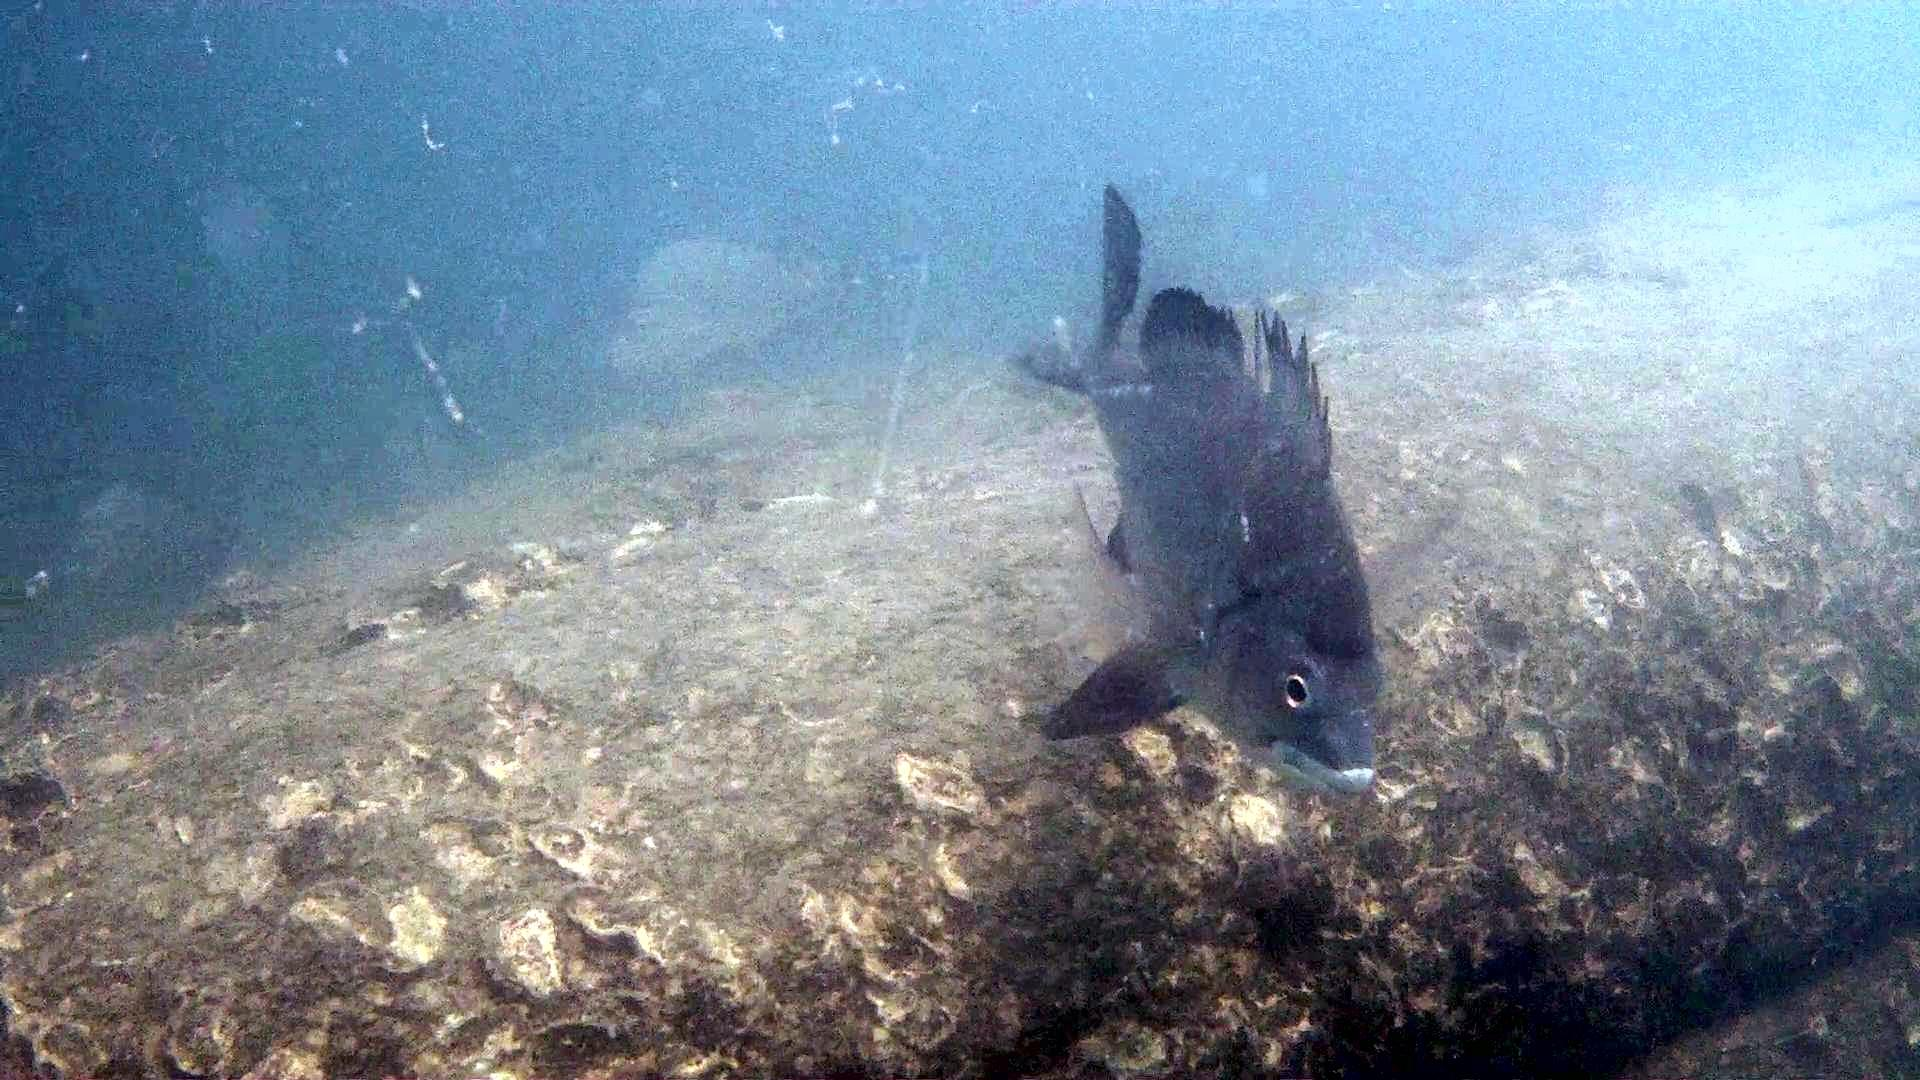acanthopagrus palmaris: (990, 167, 1468, 814)
